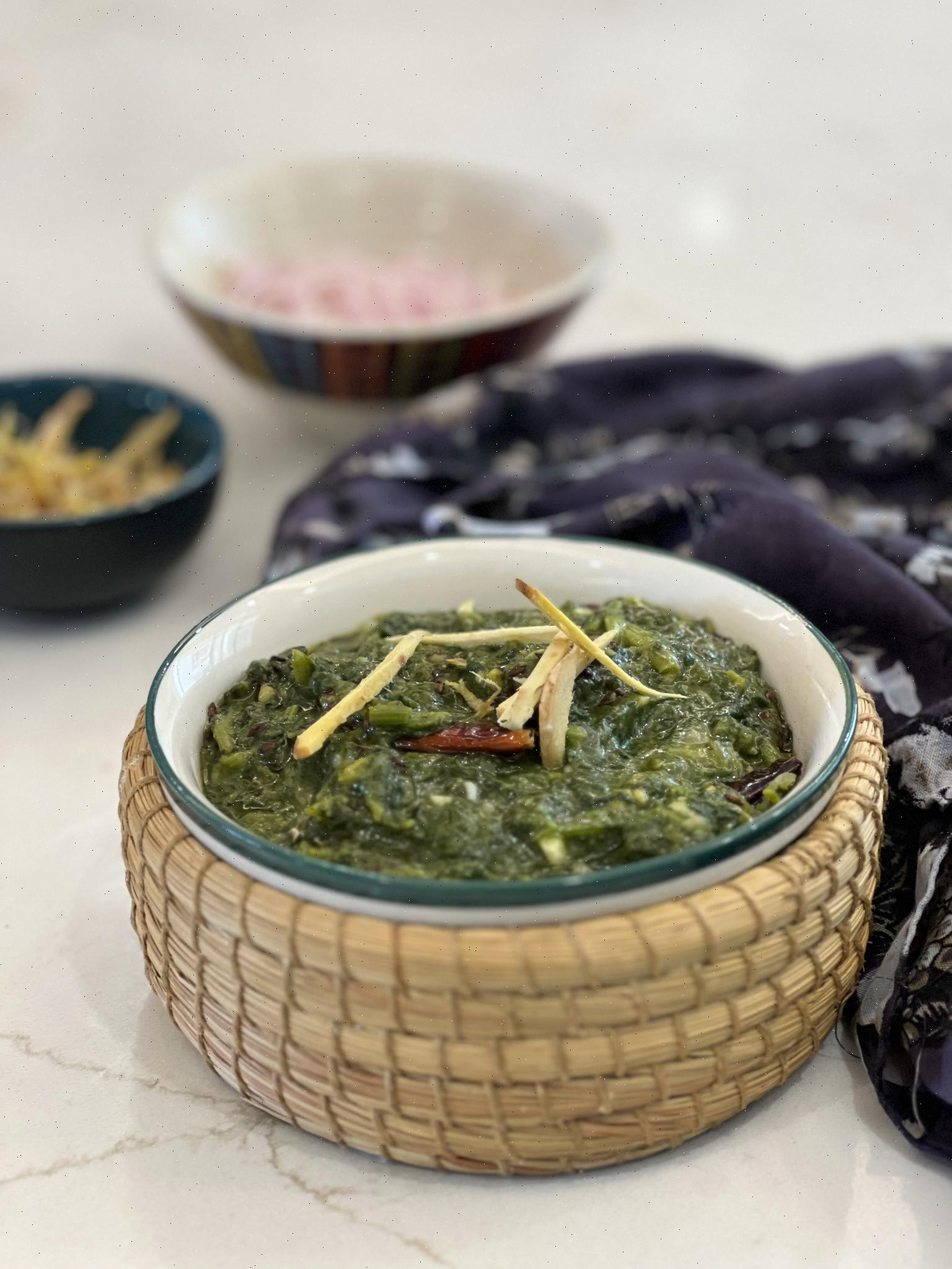saag: (186, 573, 841, 892)
